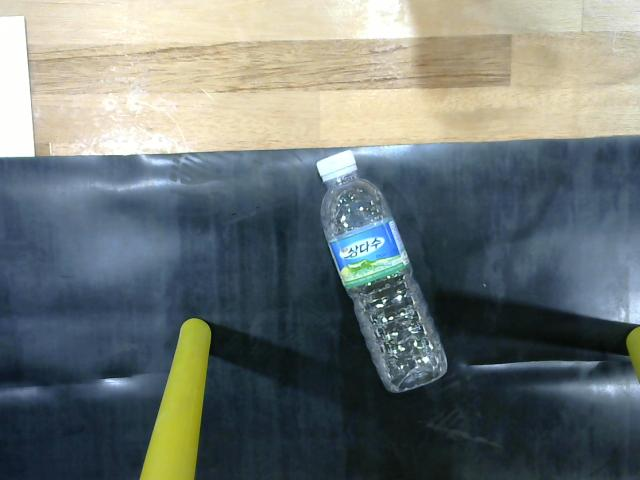bottle: (306, 144, 464, 401)
